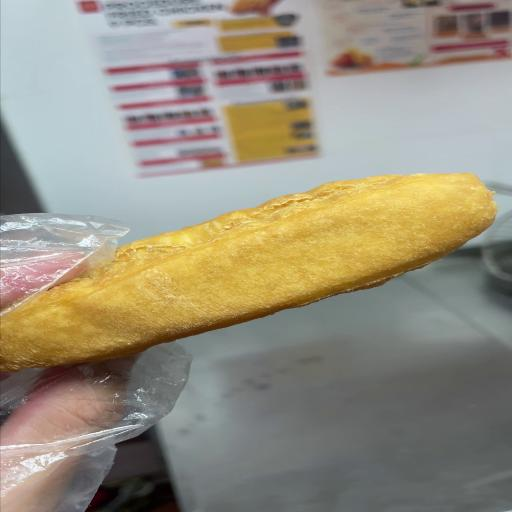brand_golden_good: (0, 173, 496, 371)
